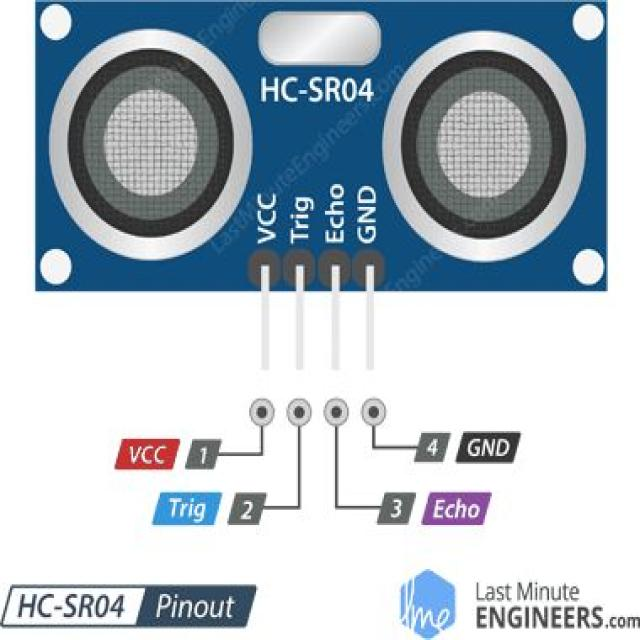Ultrasonic Sensor: (27, 1, 614, 387)
